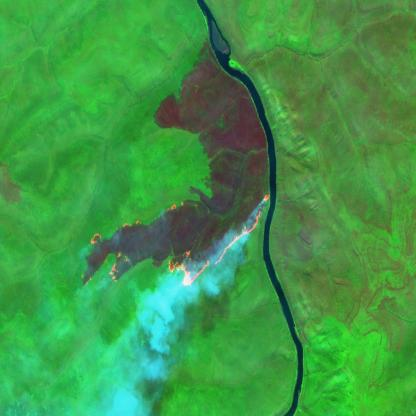fire: (76, 189, 275, 294)
